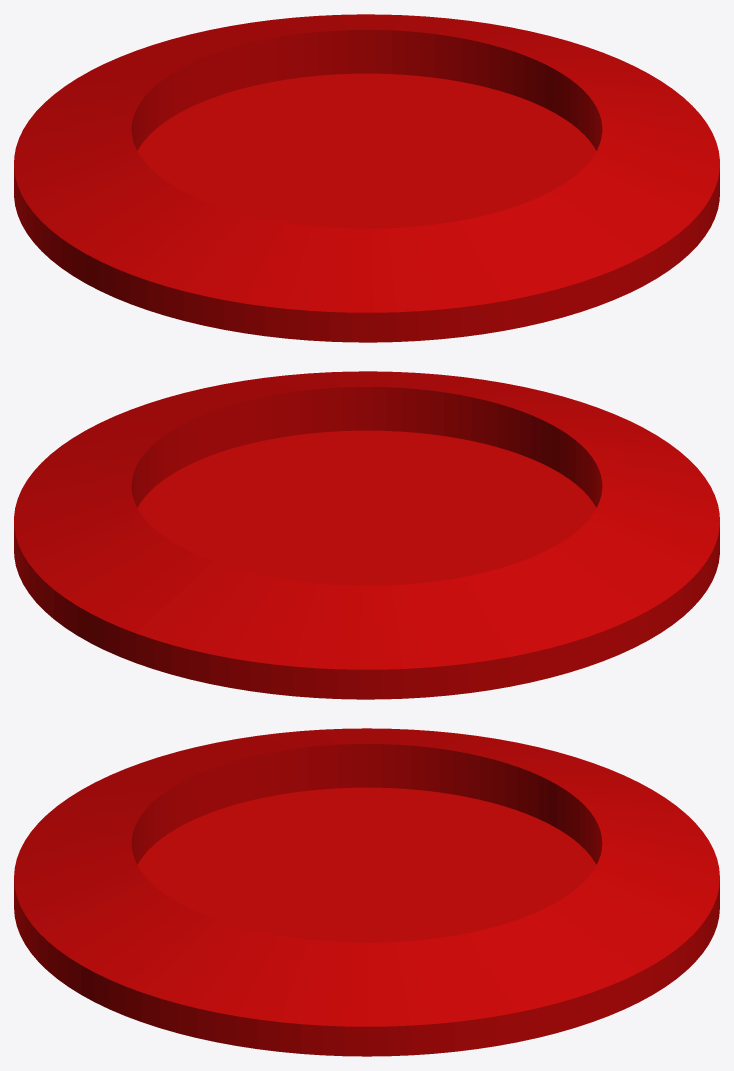
File: ButtonBase.obj
3 renders of one model, top to bottom at view 1: azimuth 30°, elevation 25°; view 2: azimuth 150°, elevation 25°; view 3: azimuth 270°, elevation 25°, orthographic.
Parts seen in each view (by area): view 1: Cylinder.001_Cylinder.004; view 2: Cylinder.001_Cylinder.004; view 3: Cylinder.001_Cylinder.004.
Boxes of the visible parts, box(x1,y1,x2,y2) form: Cylinder.001_Cylinder.004: box(14, 14, 719, 342); Cylinder.001_Cylinder.004: box(14, 371, 719, 699); Cylinder.001_Cylinder.004: box(14, 728, 719, 1056).
Bounding box in the file's own units: 3 × 0.3004 × 3.
